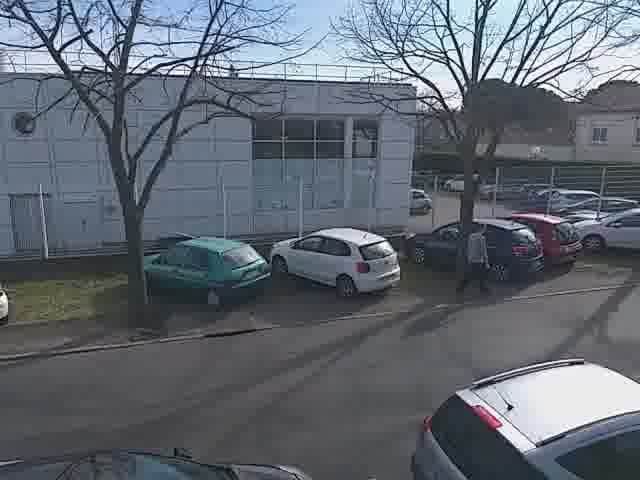persona: (453, 207, 496, 302)
